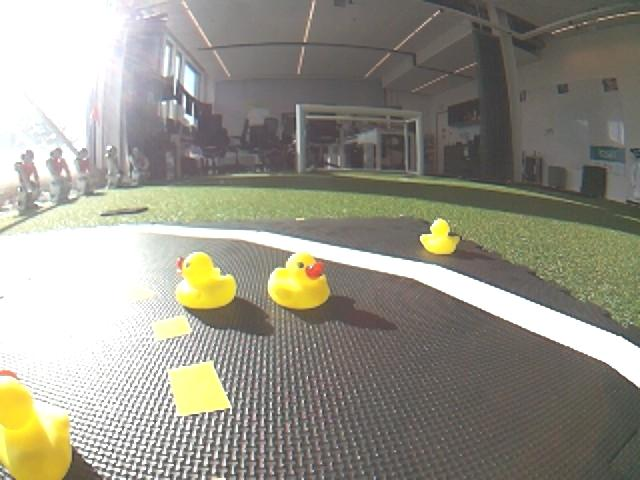Duckies: (0, 371, 73, 480), (174, 250, 238, 309), (268, 251, 329, 311), (418, 220, 460, 255)
